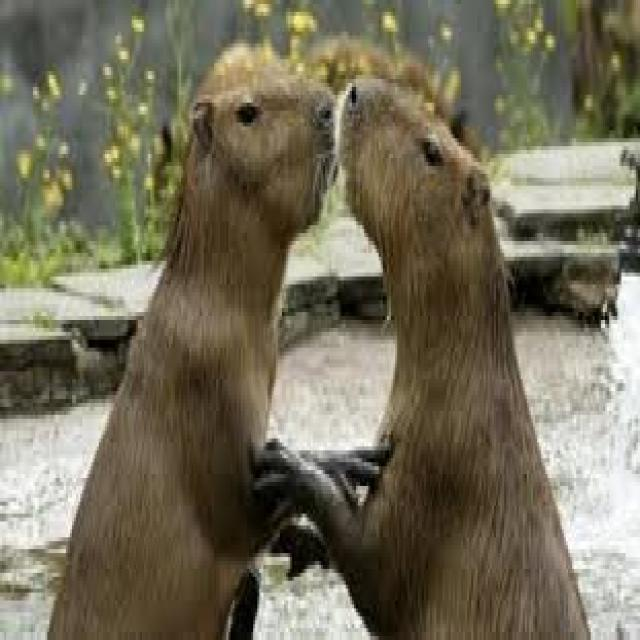capy: (288, 75, 594, 640), (46, 71, 337, 640)
